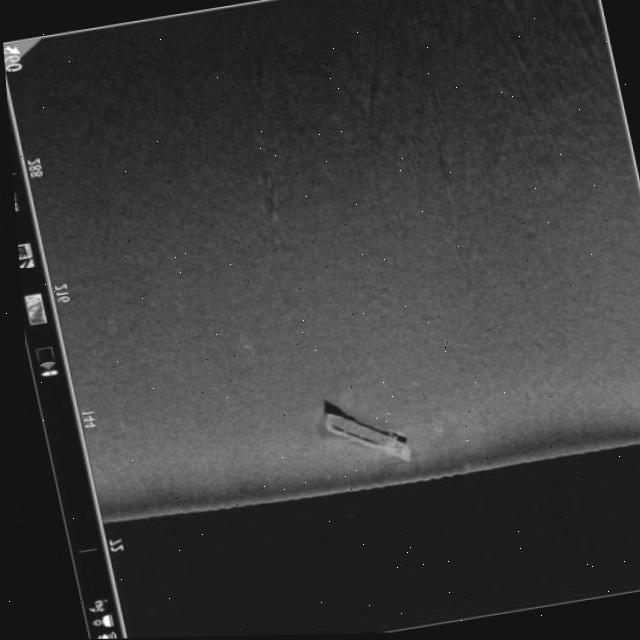shipwreck: (304, 396, 407, 476)
